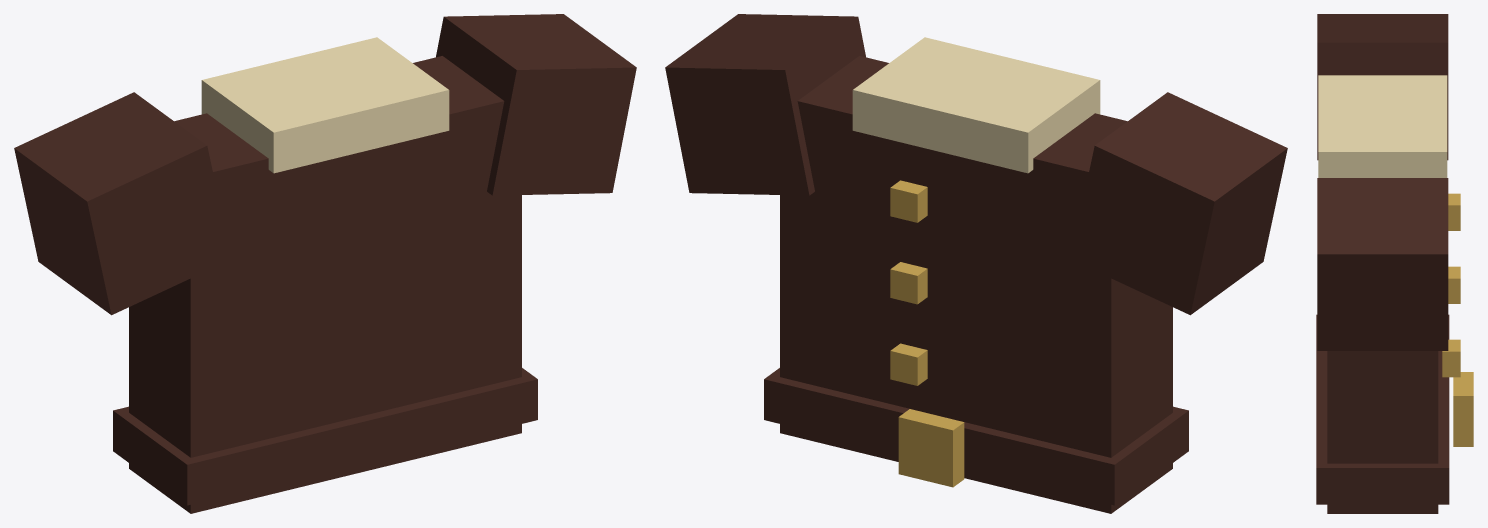
The model's file is leather_vest.glb.
3 renders of one model, left to right at view 1: azimuth 30°, elevation 25°; view 2: azimuth 150°, elevation 25°; view 3: azimuth 270°, elevation 25°, orthographic. The views are drawn at different scales.
Parts seen in each view (by area): view 1: leather_vest; view 2: leather_vest; view 3: leather_vest.
Part boxes in pixels (x1=…): leather_vest: x1=14, y1=14, x2=636, y2=513; leather_vest: x1=665, y1=14, x2=1287, y2=513; leather_vest: x1=1316, y1=14, x2=1473, y2=513.
Size of the model in its own units: 2.82 by 1.81 by 0.78.
